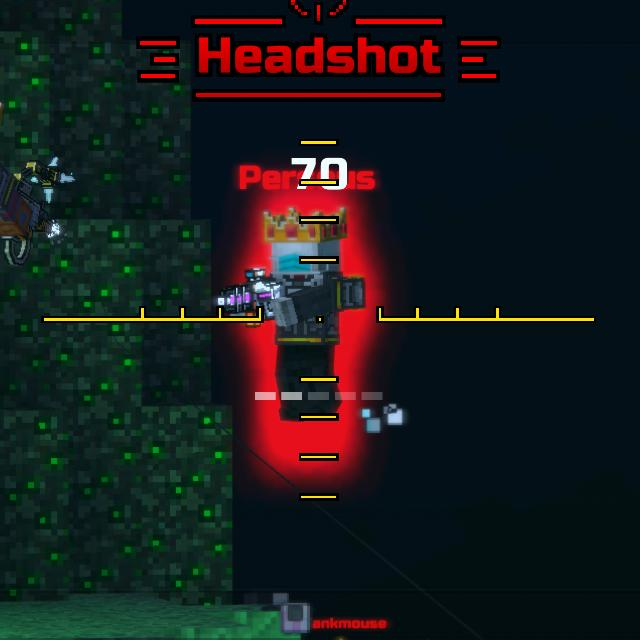Enemy: (243, 212, 366, 420)
